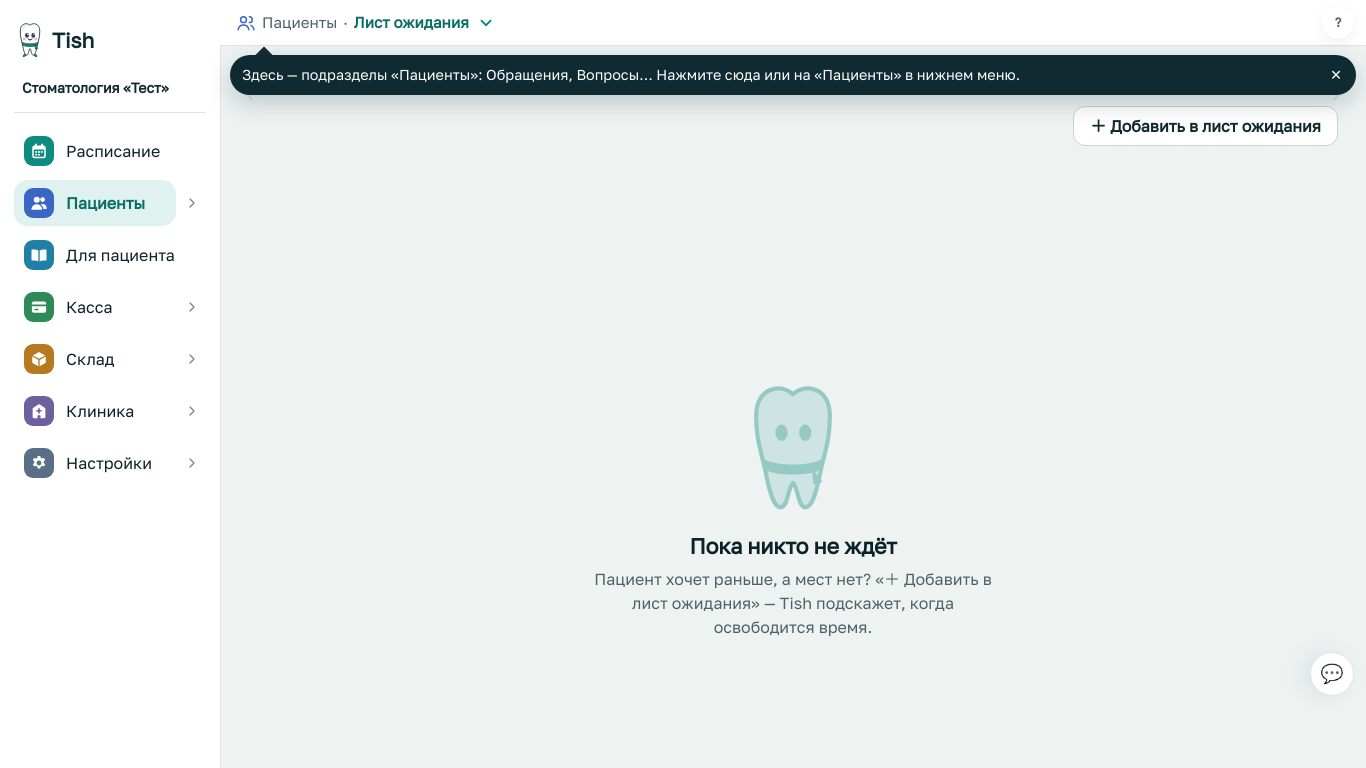
Test: телефон: над страницей — «Пациенты · Лист ожидания ▾» (меню слева нет); выбор в листе — новый адрес и заголовок
Click the button with aria-label "Пациенты · Лист ожидания: выбрать подраздел" at (300, 22), box [226, 4, 1316, 42]
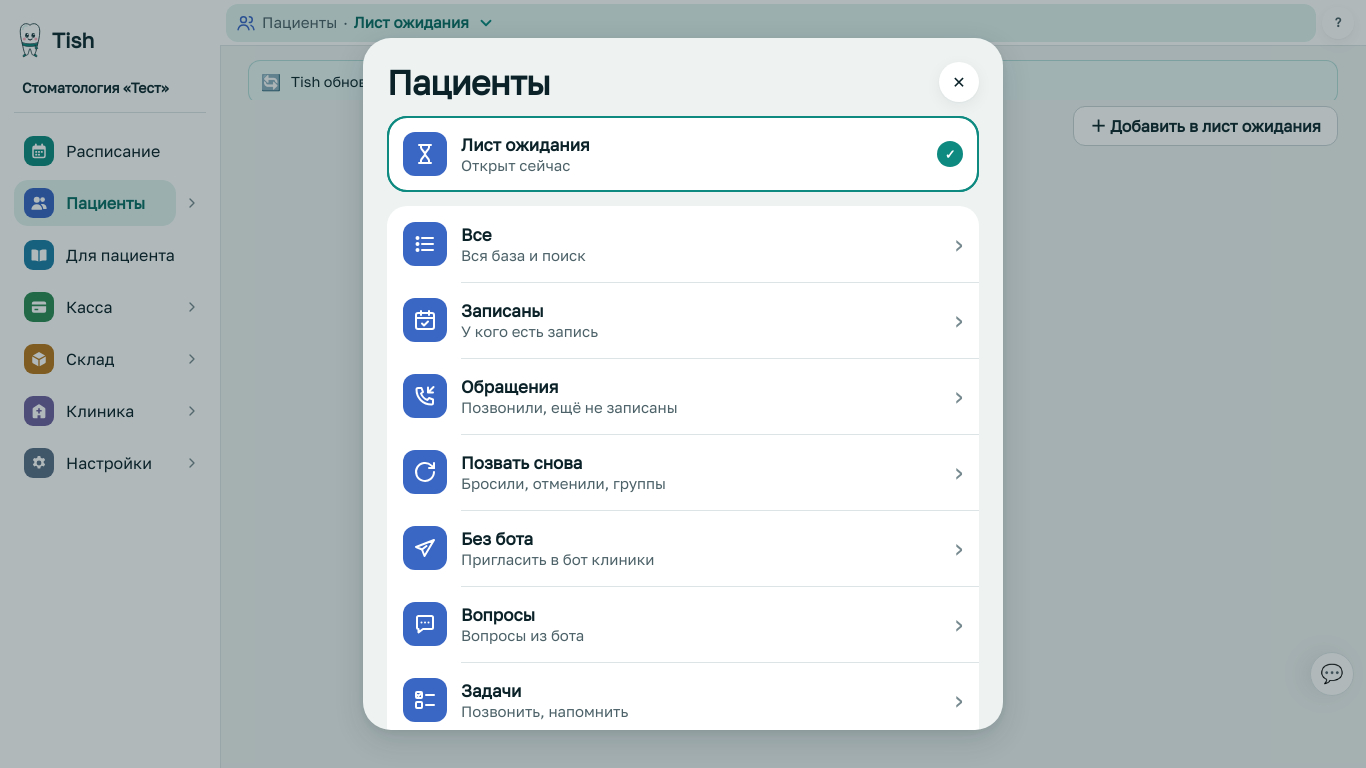
Click the menu item "Вопросы Вопросы из бота" at (425, 624), box [387, 586, 979, 662]
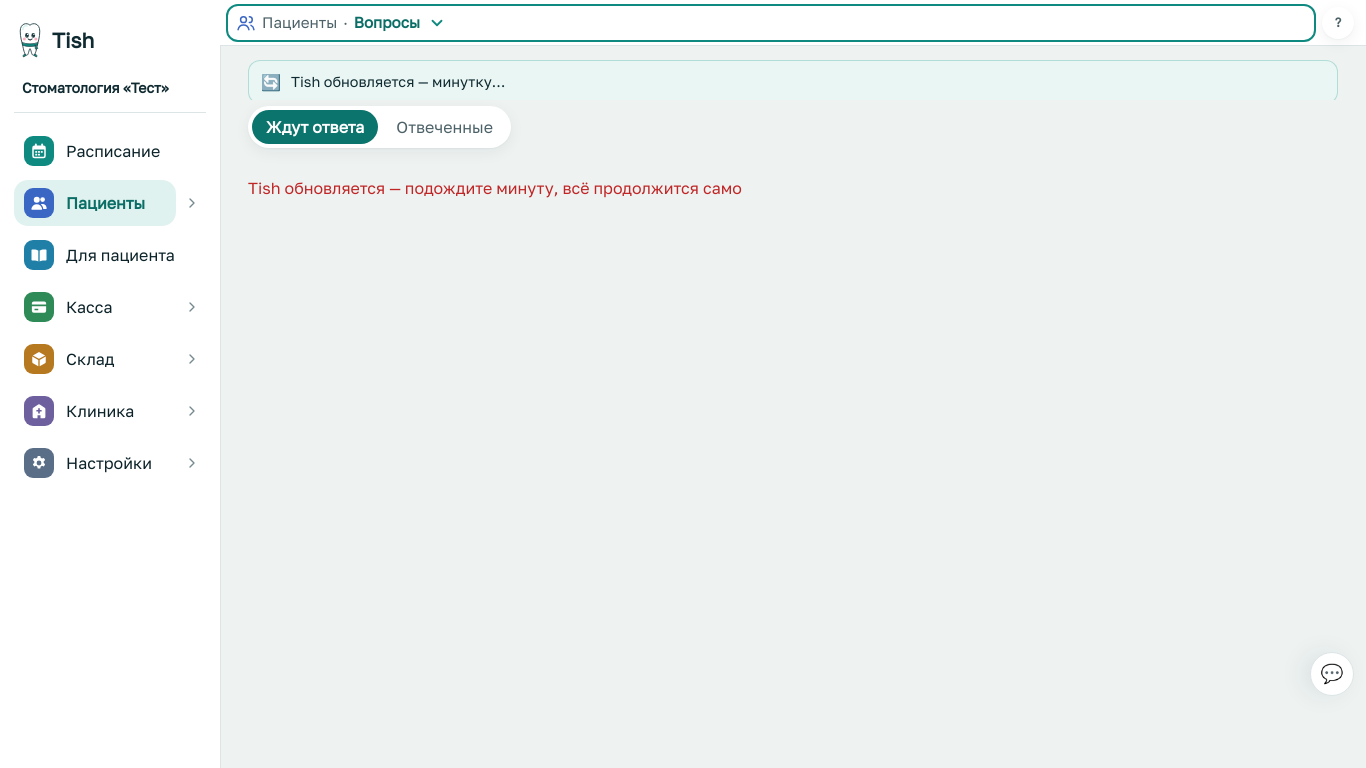
Now the button with aria-label "Пациенты · Вопросы" is shown, box [226, 4, 1316, 42]
